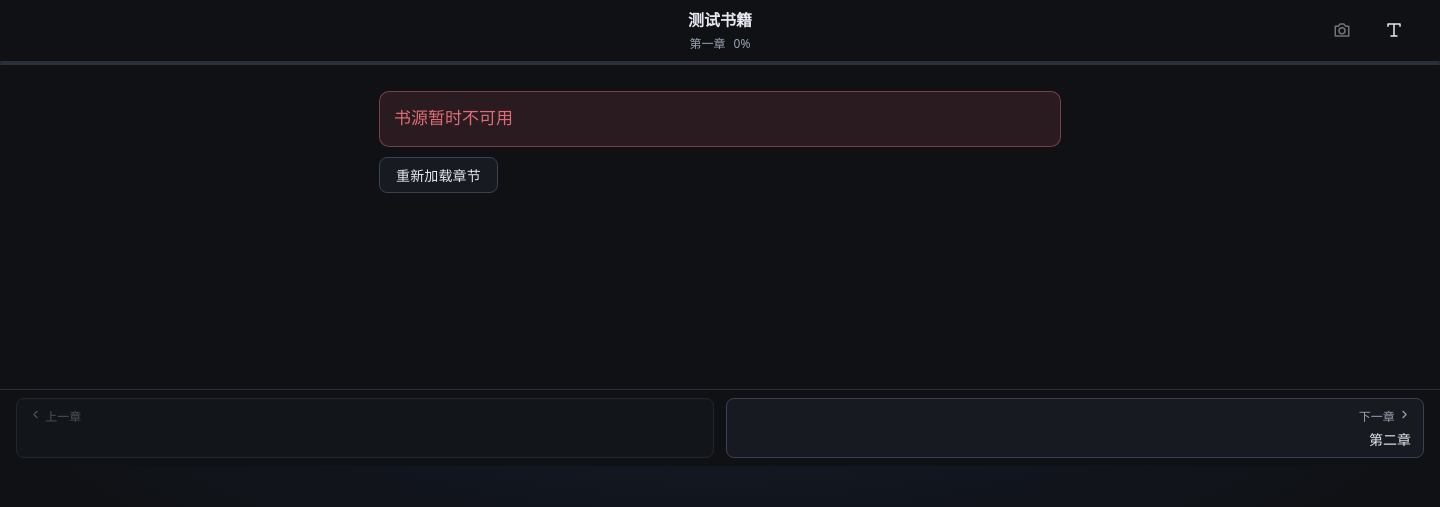
stops loading on failure and retries the same chapter
Expected: the message reads "书源暂时不可用", left=394, top=109, right=513, bottom=128
Click the button "重新加载章节" at {"x": 438, "y": 175}, box left=379, top=157, right=498, bottom=193
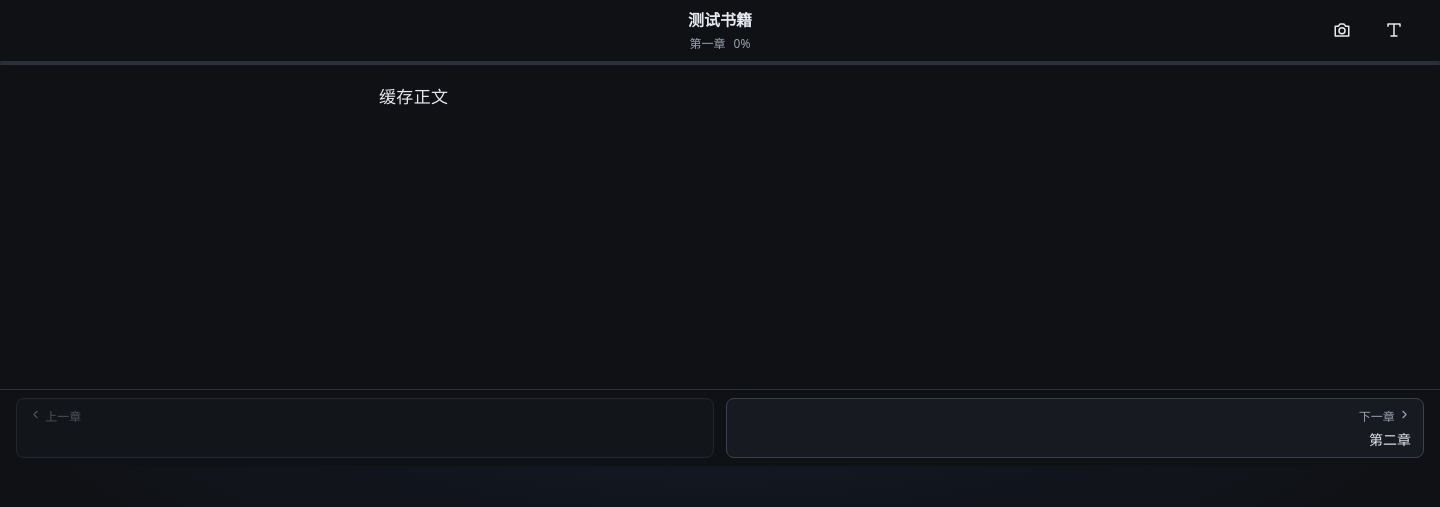
Expected: the text "缓存正文" is shown, left=379, top=88, right=448, bottom=107
Expected: the message "书源暂时不可用" is gone
Expected: the button "重新加载章节" is gone
